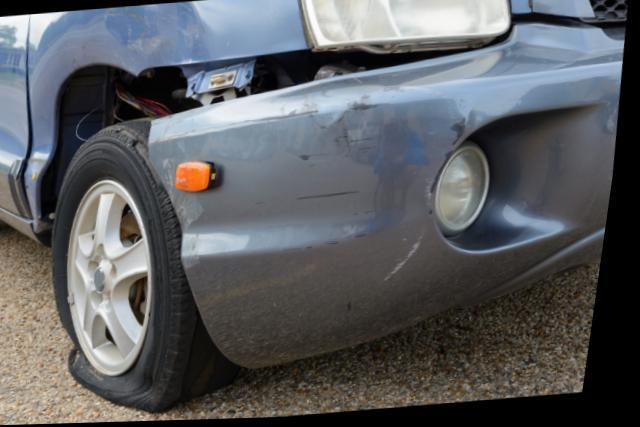dent: (152, 2, 199, 64)
dislocated part: (135, 29, 514, 122)
scratch: (222, 83, 474, 287)
tire flat: (59, 119, 239, 414)
